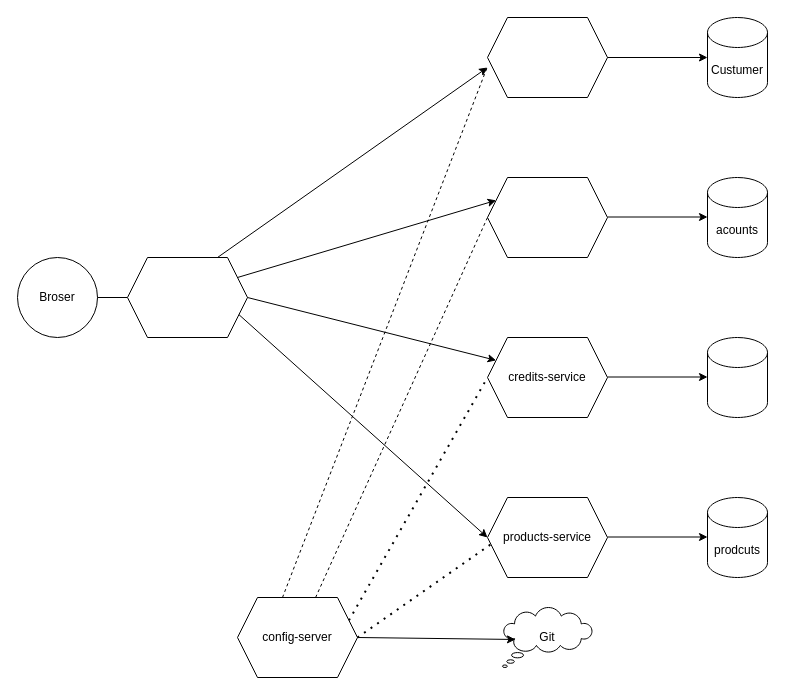
The diagram is 785 pixels wide and 695 high, and some of its shapes have lost their labels. The shapes that lost their labels are listed below. From the top down, each one's box as (x1, y1, x2, y2) in pixels, then its label:
(486, 16, 608, 98): custumer-service
(486, 176, 608, 258): acounts-service
(126, 256, 248, 338): getway
(706, 336, 768, 418): credits
